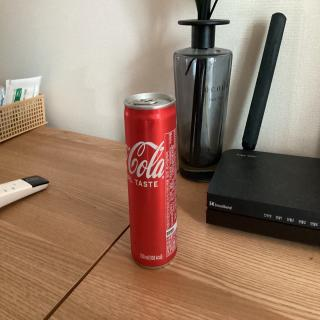cocacola: (122, 90, 184, 272)
